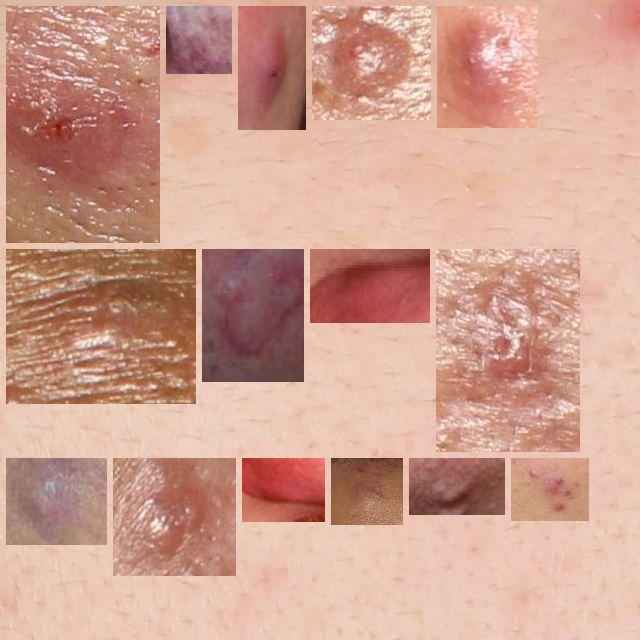nodule: (6, 14, 152, 235), (14, 257, 188, 396), (444, 257, 572, 444), (121, 466, 228, 568), (320, 14, 423, 112), (210, 257, 296, 374), (445, 14, 530, 120), (14, 466, 99, 537), (318, 257, 422, 315), (246, 14, 298, 122), (417, 466, 497, 507), (250, 466, 317, 514), (519, 466, 581, 513), (339, 466, 395, 517), (174, 14, 224, 66)
